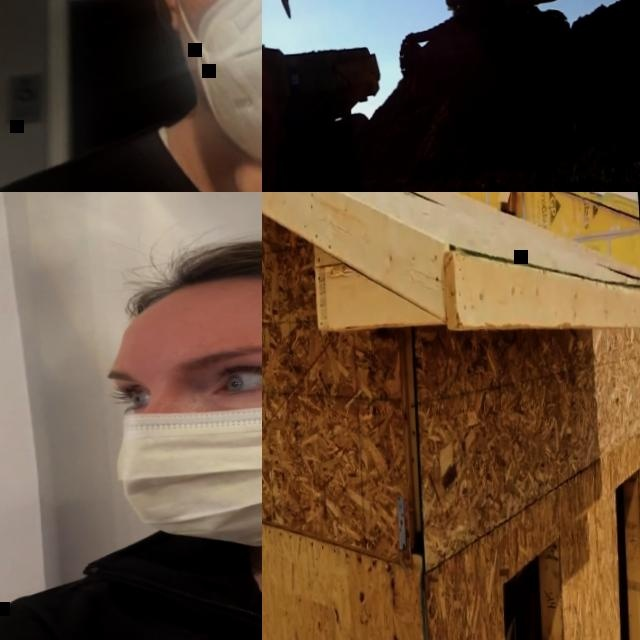Mask: (103, 356, 262, 556), (168, 0, 262, 192)
NO-Hardhat: (117, 229, 262, 350)
NO-Safety Vest: (28, 516, 262, 640), (19, 121, 262, 192)
Person: (0, 220, 262, 640), (0, 0, 262, 192)
machinery: (262, 0, 587, 88), (262, 33, 385, 192)
